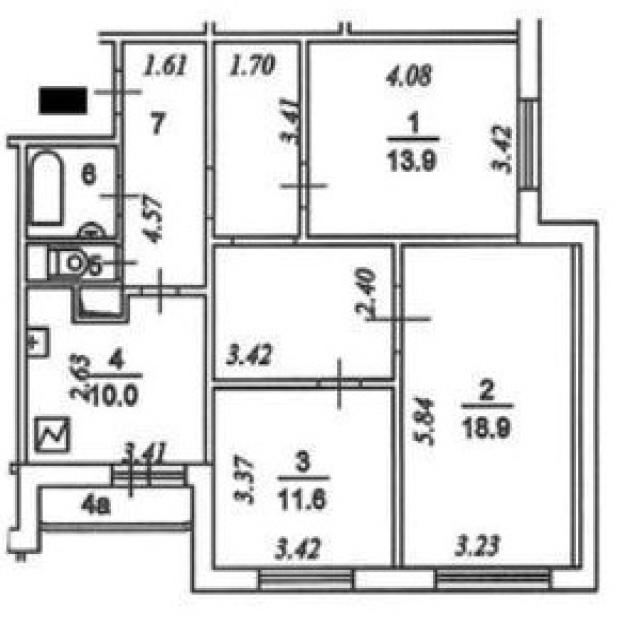Bathrooms: (29, 150, 113, 236), (29, 247, 114, 279)
Corridors: (219, 251, 389, 375), (126, 47, 203, 283), (218, 46, 296, 233), (44, 490, 189, 520)
Doors: (364, 287, 432, 352), (276, 162, 331, 207), (317, 355, 360, 412), (90, 71, 143, 114), (111, 447, 150, 501), (96, 175, 143, 216), (141, 267, 180, 315), (97, 244, 137, 280), (232, 234, 297, 249), (204, 166, 215, 220)
LBwalls: (517, 190, 599, 594), (6, 462, 110, 555), (186, 463, 258, 595), (516, 18, 542, 99), (353, 567, 434, 591)
Offices: (407, 250, 569, 564), (311, 46, 515, 232), (28, 291, 203, 462), (218, 391, 389, 566)
Walls: (97, 18, 516, 166), (8, 116, 141, 462), (180, 219, 318, 463), (298, 206, 517, 290), (361, 352, 405, 567), (43, 521, 190, 532)
Windows: (433, 565, 551, 593), (259, 566, 354, 593), (515, 98, 542, 190), (150, 463, 186, 488)
